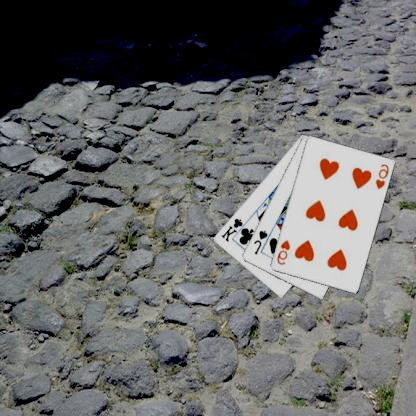6H: (375, 161, 392, 191), (276, 237, 293, 266)
JS: (252, 228, 271, 256)
KC: (221, 216, 250, 244)
